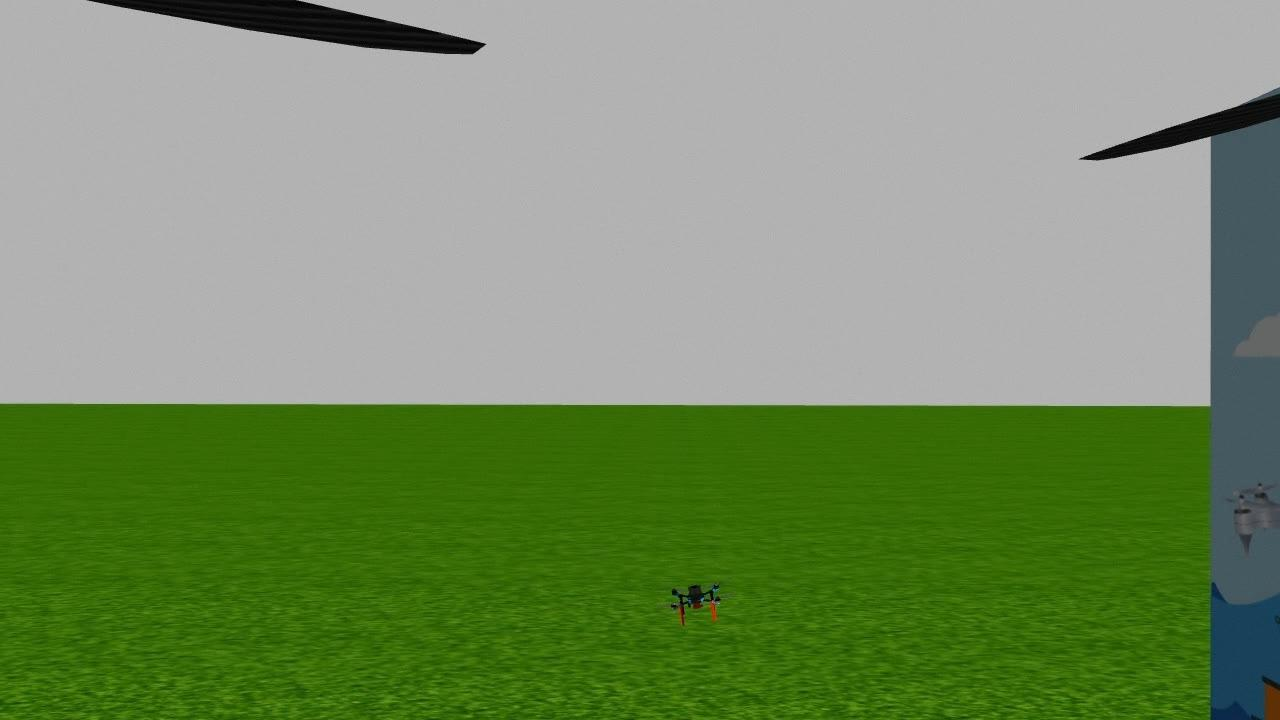UAV: (651, 570, 741, 630)
